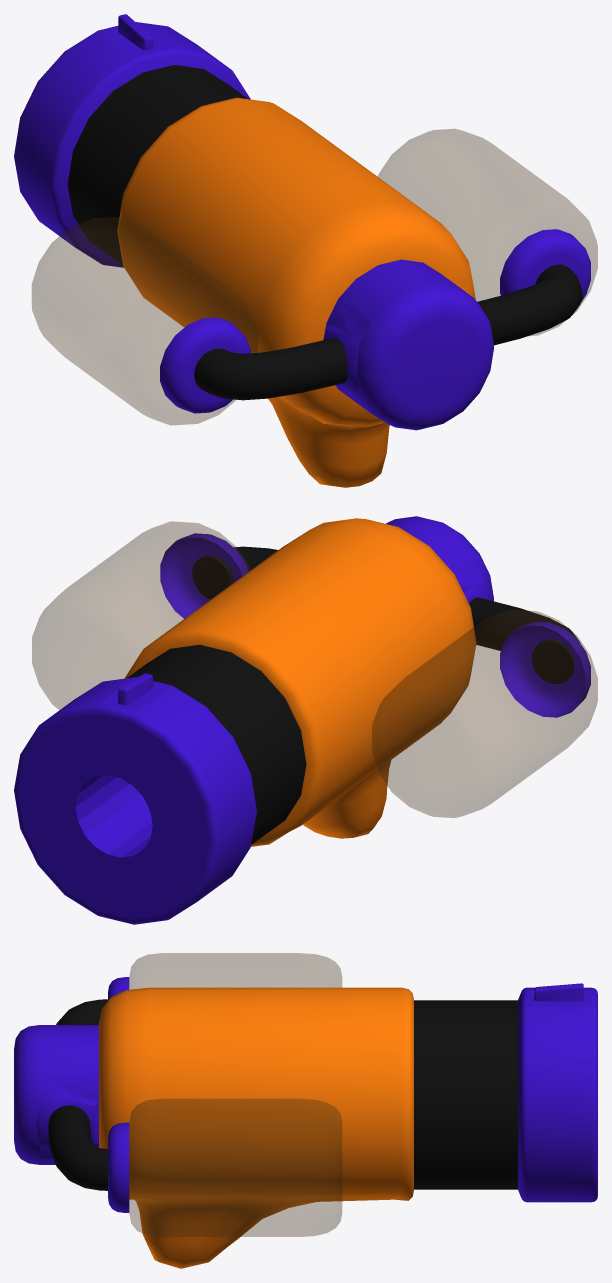
The model's file is Gun.FBX.
The picture shows the model from 3 angles, top to bottom: view 1: azimuth 30°, elevation 25°; view 2: azimuth 150°, elevation 25°; view 3: azimuth 270°, elevation 25°; orthographic projection. The views are drawn at different scales.
Visible parts, largest first — view 1: Cylinder003; view 2: Cylinder003; view 3: Cylinder003.
Part boxes in pixels (x1,y1,x2,y2): Cylinder003: (14,14,597,487); Cylinder003: (14,516,597,924); Cylinder003: (14,953,597,1268).
Size of the model in its own units: 91.72 by 109 by 56.89.
